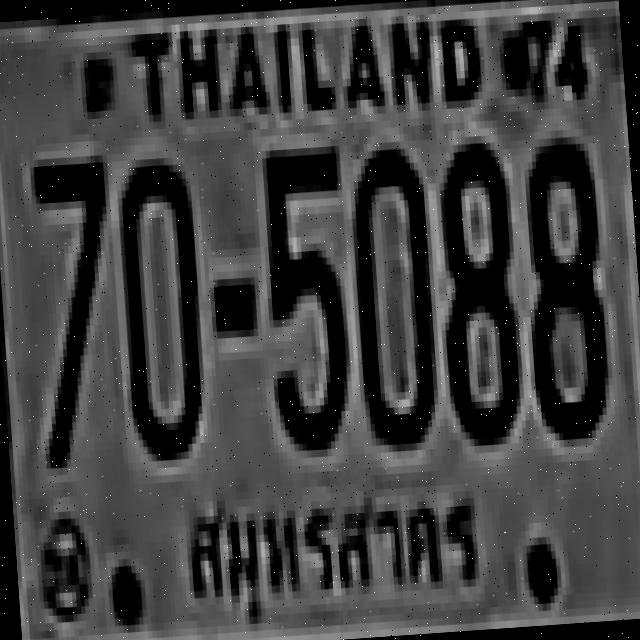0: (110, 148, 208, 462), (342, 136, 437, 442)
5: (257, 138, 358, 458)
7: (27, 147, 122, 460)
8: (514, 128, 614, 449), (428, 134, 527, 448)
SamutSakhon: (162, 461, 486, 640)
